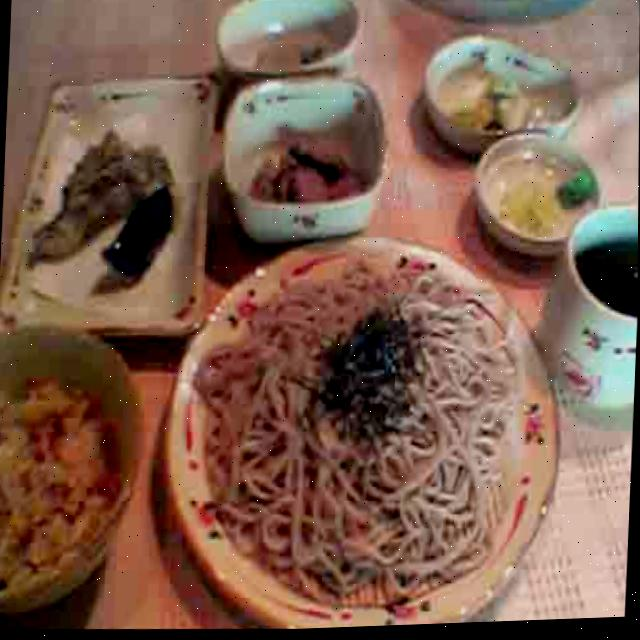面条主食: (143, 200, 578, 636)
